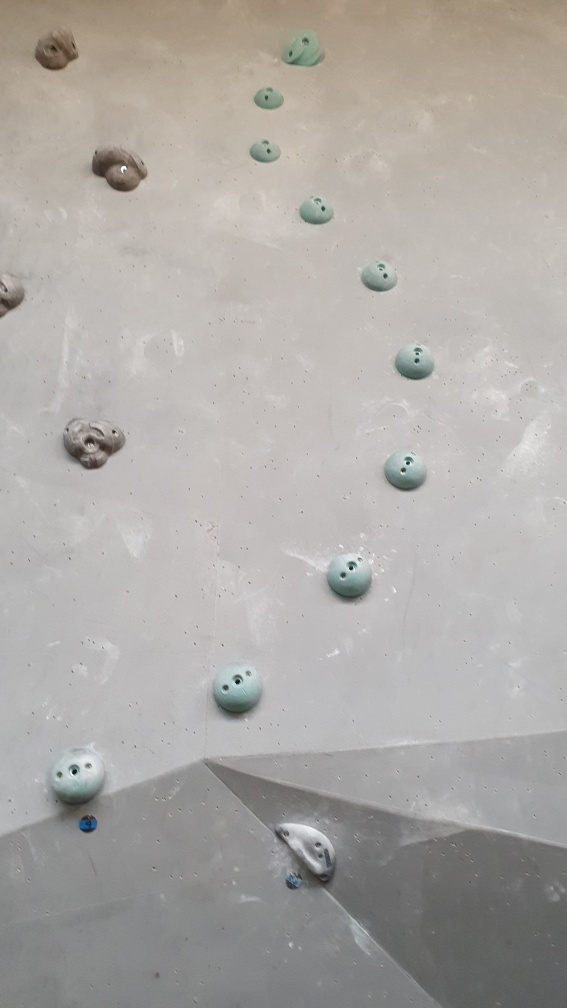Hand Start: (281, 871, 311, 894), (76, 811, 100, 835)
Jug: (60, 412, 130, 470), (89, 139, 152, 195)
Sloper: (47, 744, 109, 807), (321, 548, 380, 609), (211, 662, 266, 717), (389, 337, 440, 385), (381, 447, 430, 493), (361, 257, 406, 293), (295, 192, 335, 224), (253, 81, 290, 111), (245, 137, 284, 164)
